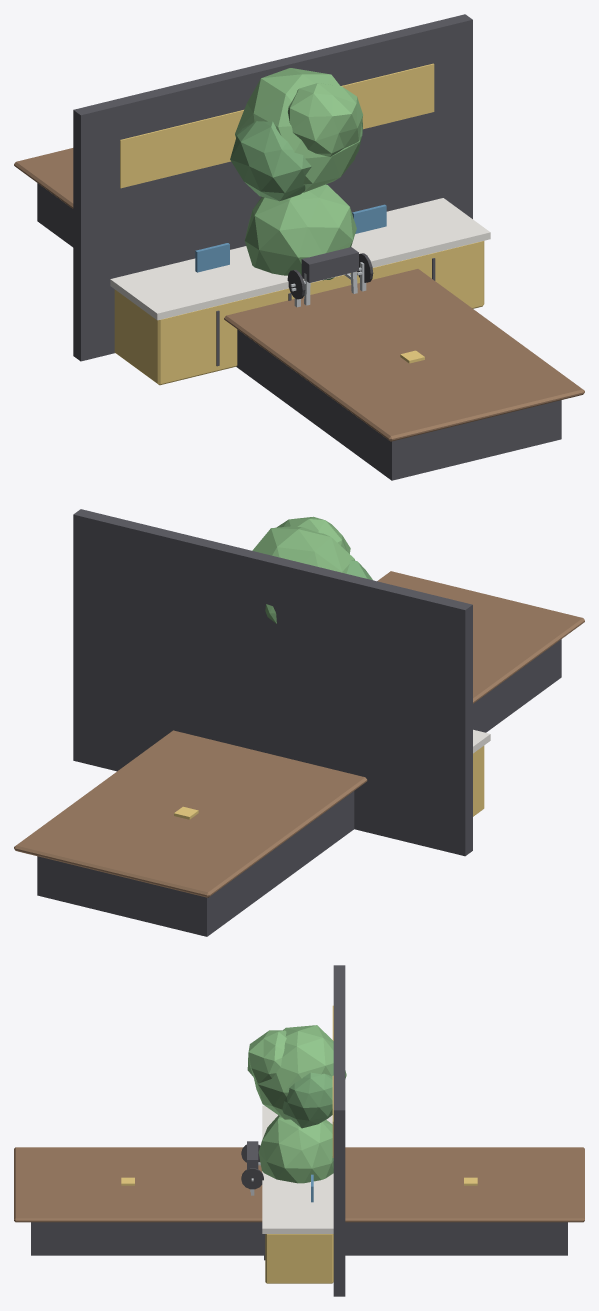
Rendered from tower_floors.glb.
3 renders of one model, top to bottom at view 1: azimuth 30°, elevation 25°; view 2: azimuth 150°, elevation 25°; view 3: azimuth 270°, elevation 25°, orthographic. The views are drawn at different scales.
Visible parts, largest first — view 1: dt_lobbydesk_mesh, dt_boardtable_mesh, dt_tree_mesh, dt_urn_mesh, dt_treadmill_mesh, dt_weights_mesh; view 2: dt_lobbydesk_mesh, dt_boardtable_mesh, dt_tree_mesh; view 3: dt_boardtable_mesh, dt_lobbydesk_mesh, dt_tree_mesh, dt_urn_mesh, dt_weights_mesh.
Part boxes in pixels (bbox=[...]): dt_lobbydesk_mesh: bbox=[73, 14, 490, 385]; dt_boardtable_mesh: bbox=[14, 148, 584, 480]; dt_tree_mesh: bbox=[230, 68, 362, 201]; dt_urn_mesh: bbox=[244, 184, 356, 280]; dt_treadmill_mesh: bbox=[301, 247, 358, 305]; dt_weights_mesh: bbox=[287, 253, 373, 307]; dt_lobbydesk_mesh: bbox=[73, 509, 490, 856]; dt_boardtable_mesh: bbox=[14, 571, 584, 936]; dt_tree_mesh: bbox=[252, 516, 372, 623]; dt_boardtable_mesh: bbox=[14, 1147, 584, 1255]; dt_lobbydesk_mesh: bbox=[262, 965, 345, 1296]; dt_tree_mesh: bbox=[247, 1025, 346, 1128]; dt_urn_mesh: bbox=[258, 1115, 333, 1183]; dt_weights_mesh: bbox=[241, 1144, 263, 1195].
Bounding box in the file's own units: 6 × 3.75 × 10.
